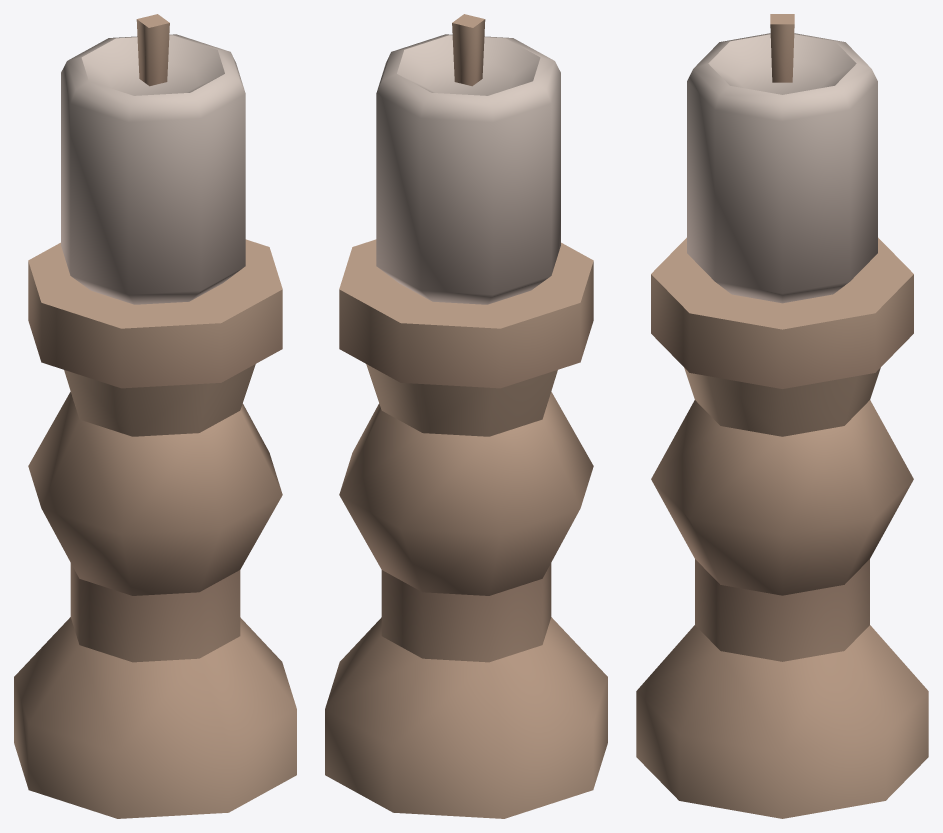
Rendered from candle-holder-tall.glb.
The picture shows the model from 3 angles, left to right: view 1: azimuth 30°, elevation 25°; view 2: azimuth 150°, elevation 25°; view 3: azimuth 270°, elevation 25°; orthographic projection.
Visible parts, largest first — view 1: candle-holder-tall; view 2: candle-holder-tall; view 3: candle-holder-tall.
Part boxes in pixels (x1,y1,x2,y2): candle-holder-tall: (14, 14, 296, 818); candle-holder-tall: (325, 14, 607, 818); candle-holder-tall: (636, 14, 928, 818).
Bounding box in the file's own units: 0.134 × 0.373 × 0.134.
